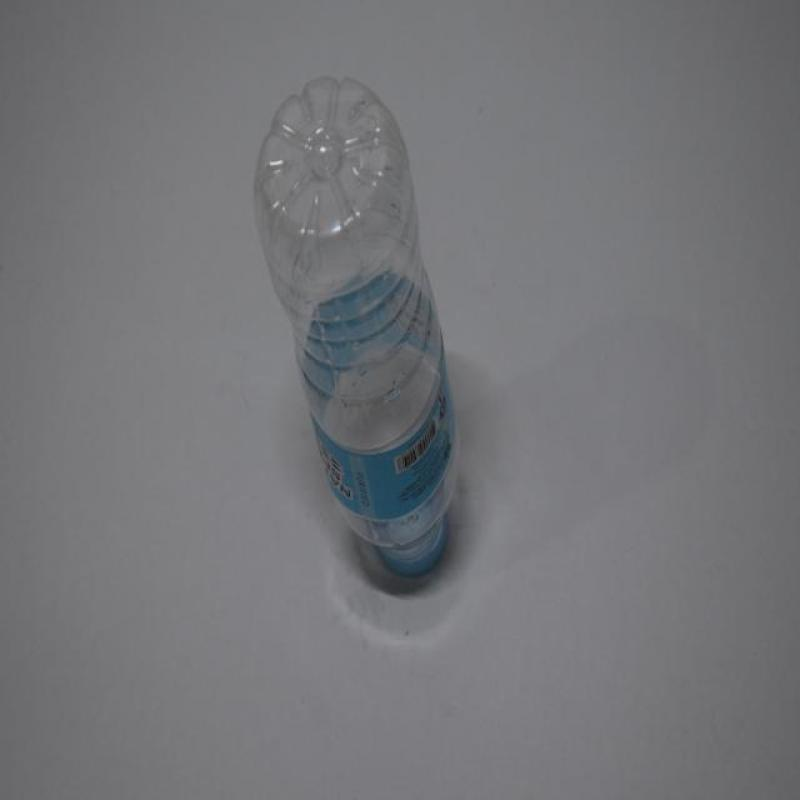botella: (255, 73, 456, 577)
